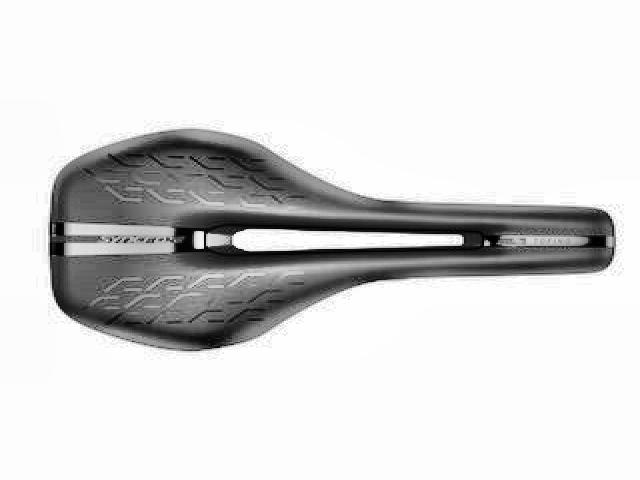saddle: (42, 122, 623, 358)
